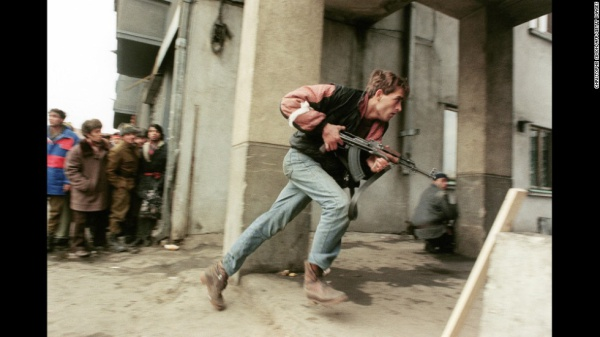ak47: (321, 124, 437, 201)
